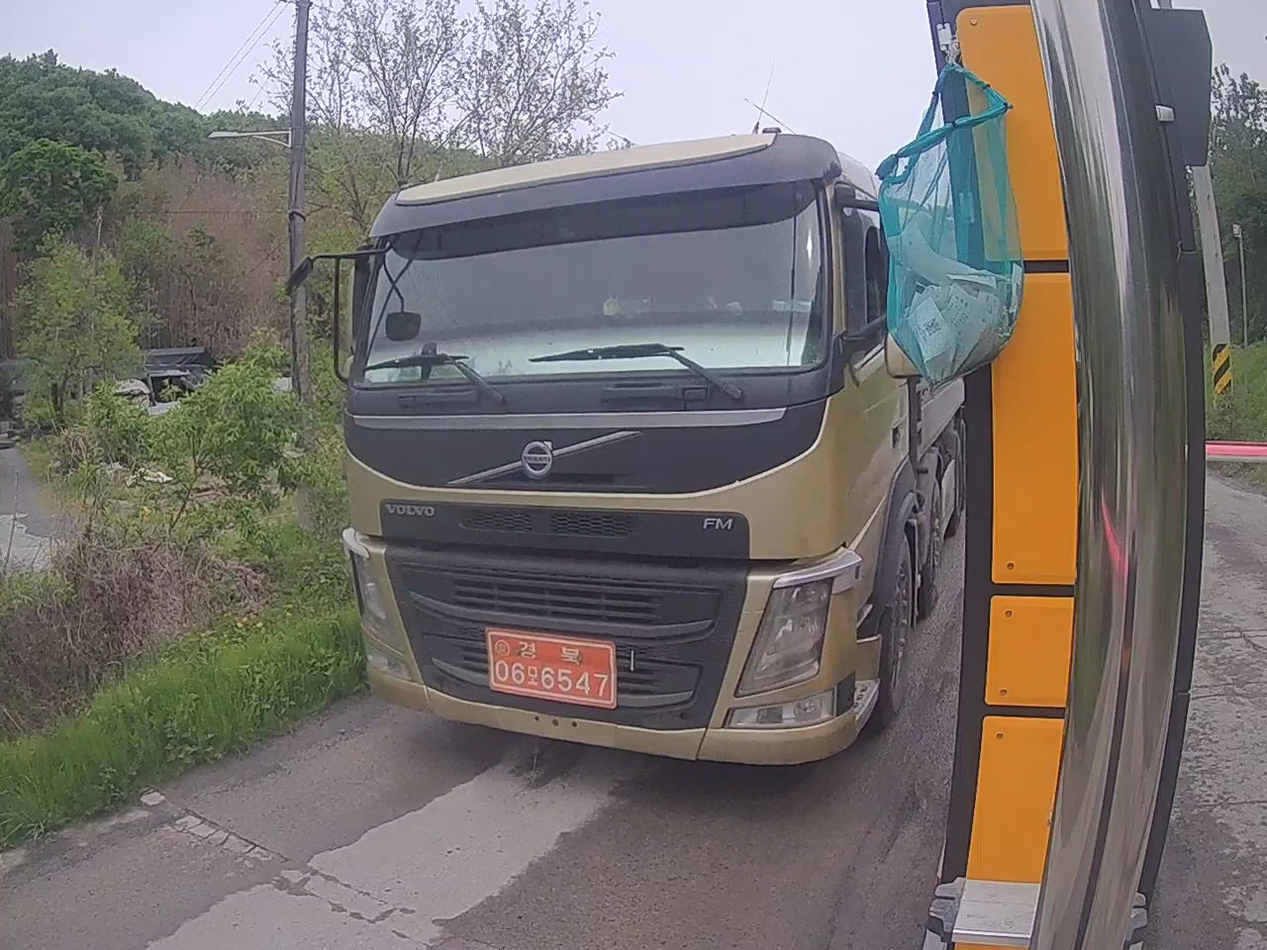license_plate: (487, 631, 616, 707)
truck: (322, 130, 963, 763)
